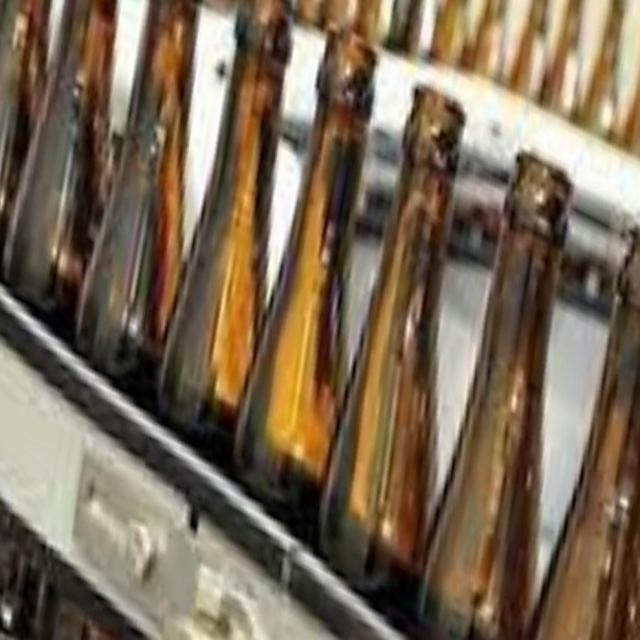bottle: (316, 82, 468, 613), (415, 148, 576, 637), (150, 0, 300, 491), (232, 16, 381, 510)
